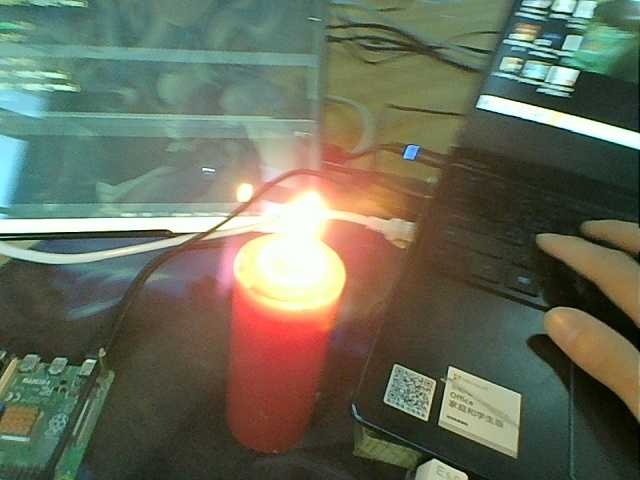candle: (225, 300, 331, 459)
fire: (241, 187, 344, 297)
